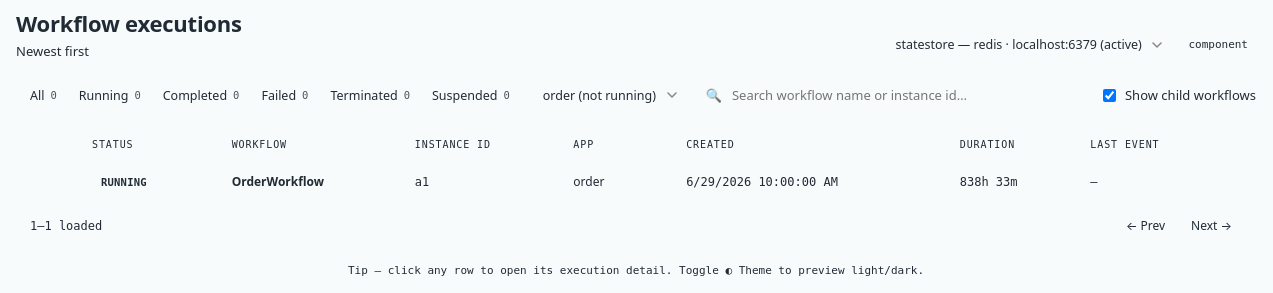
it: Workflows page — store selector › selecting a store sends ?store=<id>, shows that store rows, and resets the app filter
Expected: the link "a1" is shown, [415,174,429,188]
Select "statestore — redis · localhost:16379" in the dropdown with test id "store-select": (1028, 44) [884,29,1172,60]
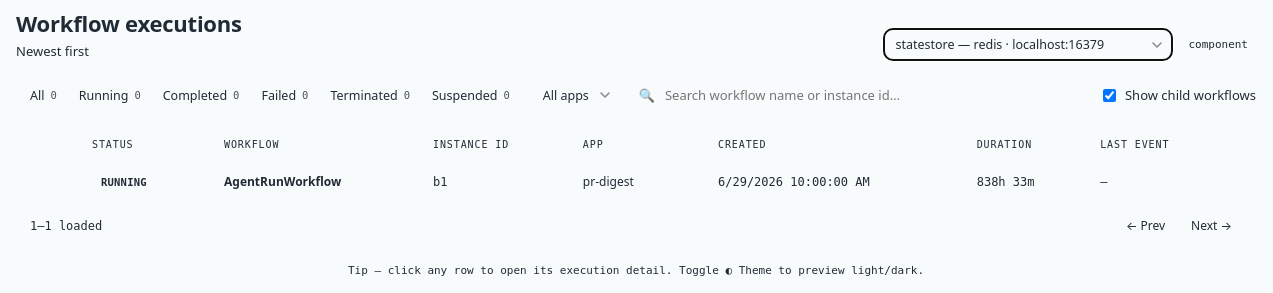
Expected: the link "b1" is shown, [433,174,448,188]
Expected: the dropdown with test id "app-select" shows "All apps", [532,80,620,110]
